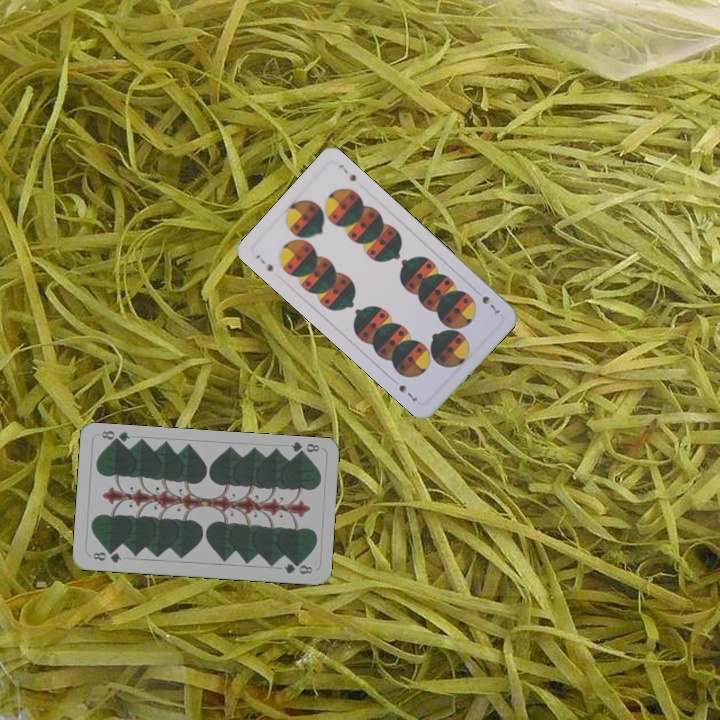G8: (287, 438, 322, 459), (89, 547, 124, 566)
S7: (478, 292, 503, 316), (251, 251, 276, 274)
